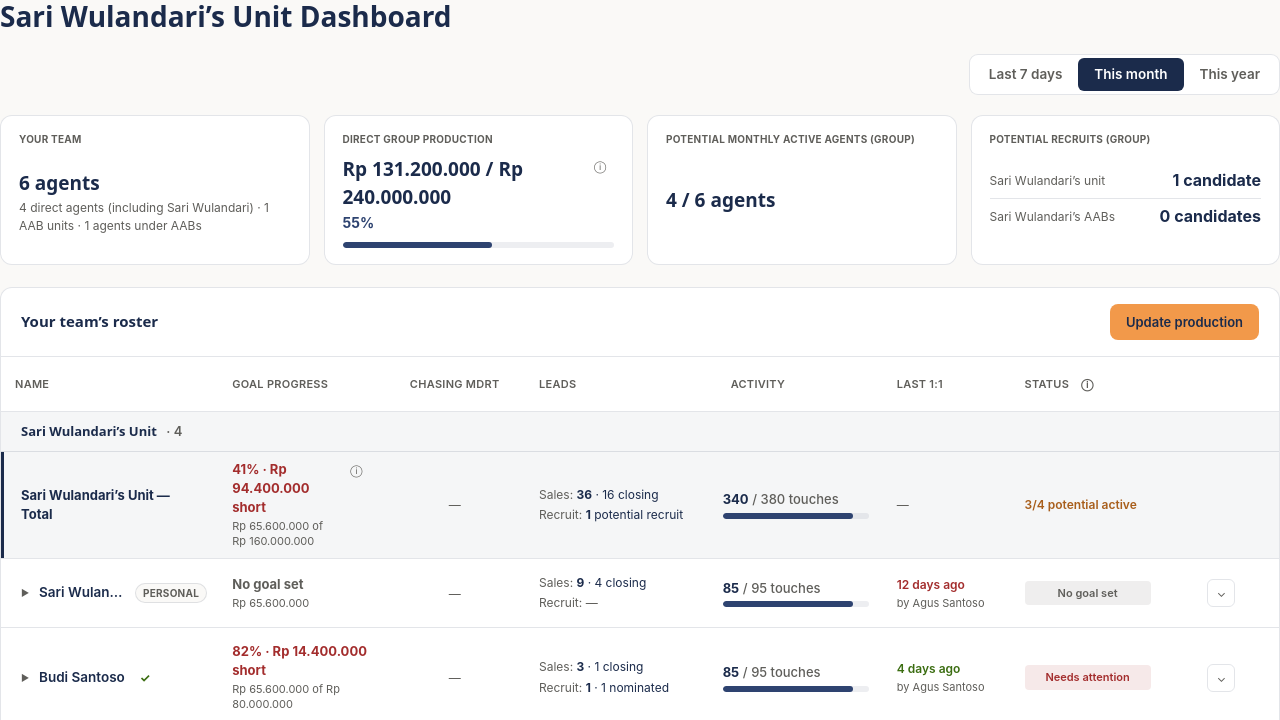
Test: a unit below the reader (P15-T4 AC-2) › P15-T4 AC-2 names the dialog’s first group for the head
Step 1. Click the button "Update production" → {"x": 1184, "y": 322}, box top-left (1110, 304), bottom-right (1259, 340)
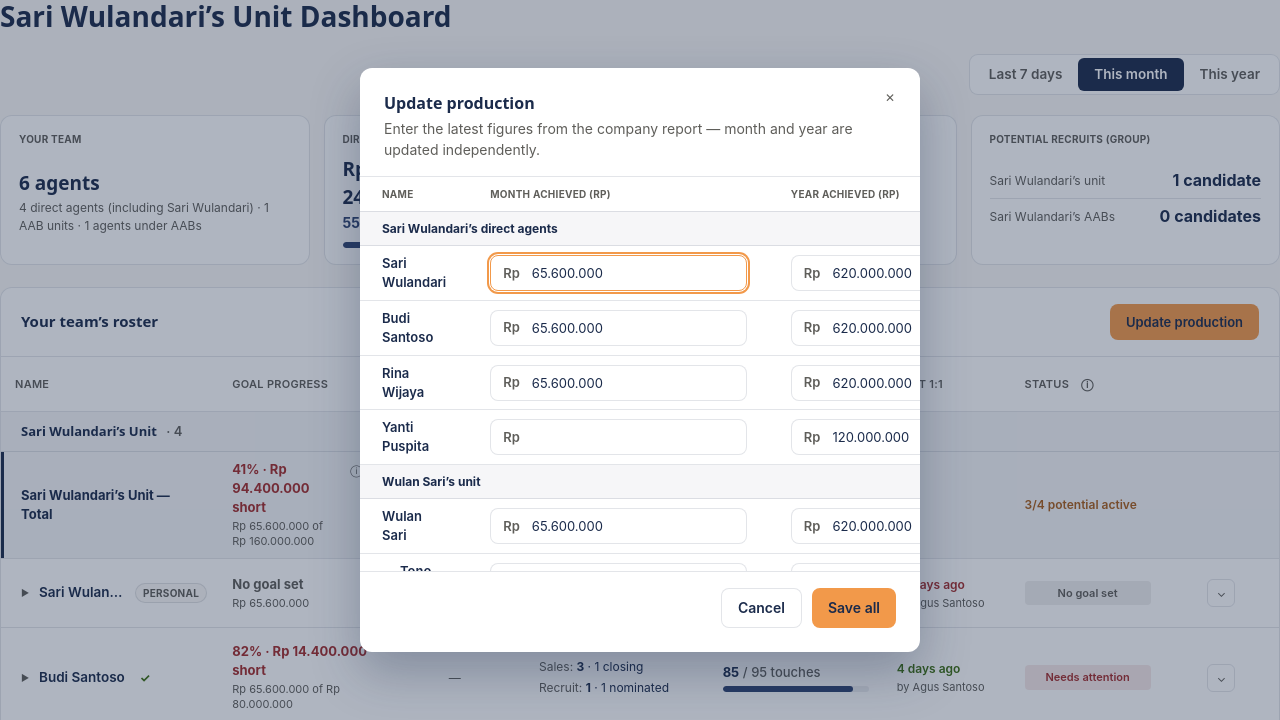
Expected: the column heading "Sari Wulandari’s direct agents" is shown, top-left (360, 211), bottom-right (920, 246)
Expected: the column heading "Wulan Sari’s unit" is shown, top-left (360, 464), bottom-right (920, 499)
